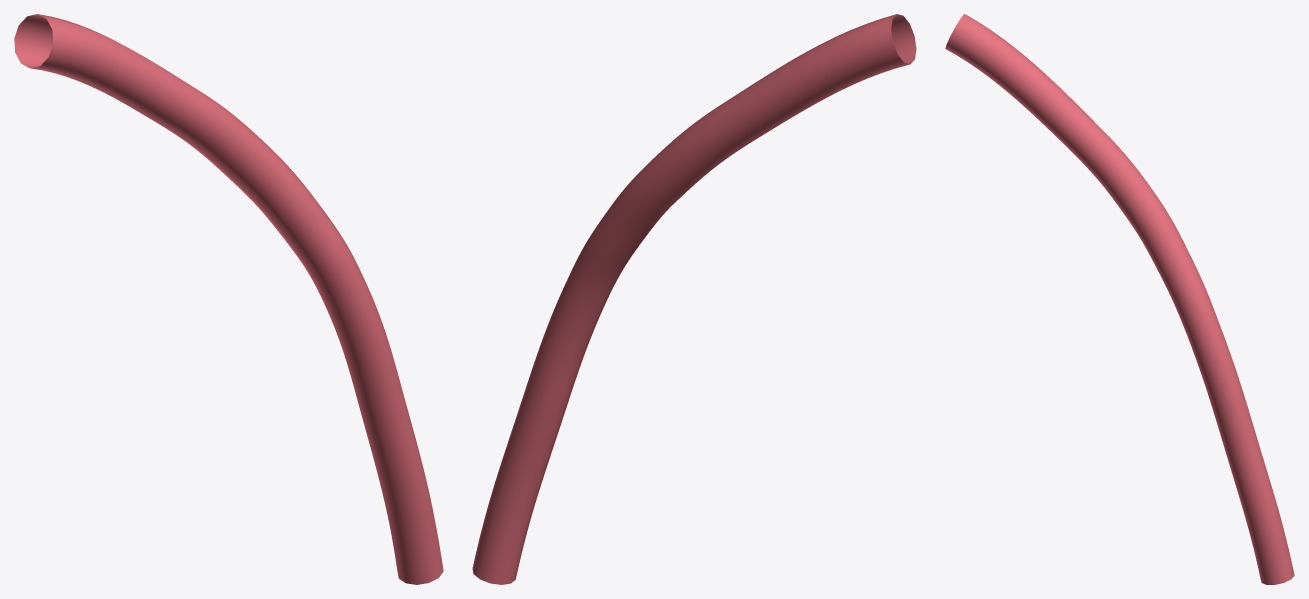
3 views of the same model, side by side, from view 1: azimuth 30°, elevation 25°; view 2: azimuth 150°, elevation 25°; view 3: azimuth 330°, elevation 25° (orthographic). The views are drawn at different scales.
Visible parts, largest first — view 1: ZA_8227fc90d6ea49e5; view 2: ZA_8227fc90d6ea49e5; view 3: ZA_8227fc90d6ea49e5.
Boxes of the visible parts, x1,y1,x2,y2 form: ZA_8227fc90d6ea49e5: (14,14,443,584); ZA_8227fc90d6ea49e5: (472,14,916,584); ZA_8227fc90d6ea49e5: (945,14,1294,584).
Bounding box in the file's own units: 0.0646 × 0.0947 × 0.012.
